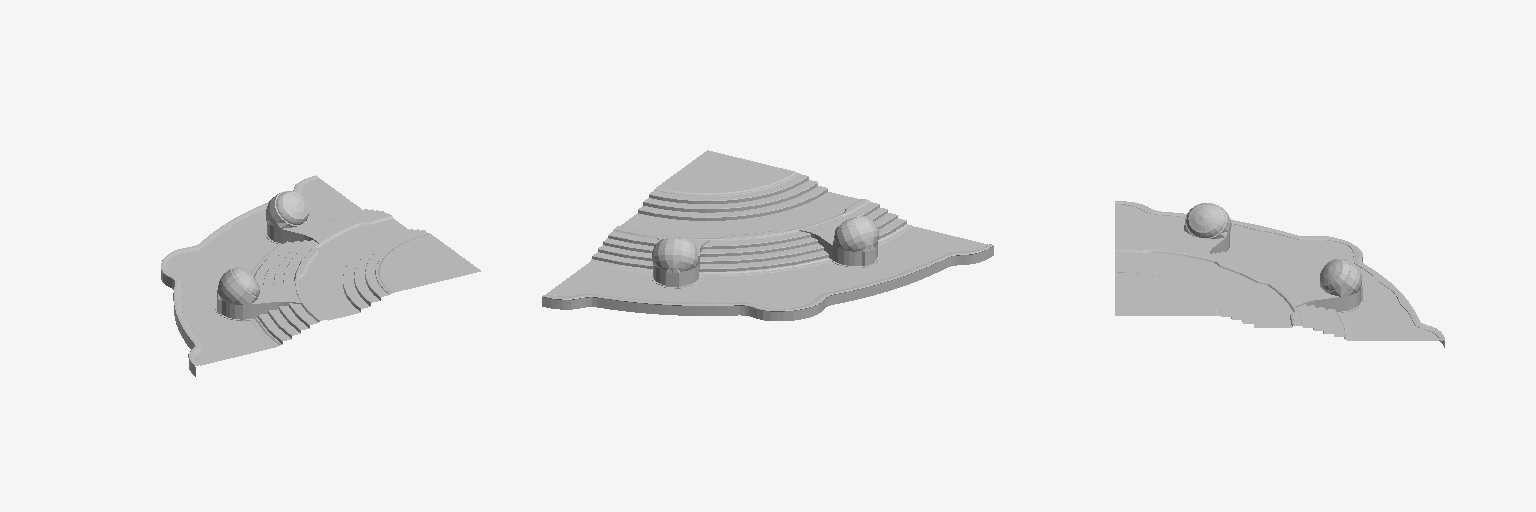
Rendered from Stairs Quarter.obj.
3 views of the same model, side by side, from view 1: azimuth 30°, elevation 25°; view 2: azimuth 150°, elevation 25°; view 3: azimuth 270°, elevation 25° (orthographic).
Parts seen in each view (by area): view 1: SM_Cave_Floor_Stairs_Quarter; view 2: SM_Cave_Floor_Stairs_Quarter; view 3: SM_Cave_Floor_Stairs_Quarter.
Boxes of the visible parts, box(x1,y1,x2,y2) form: SM_Cave_Floor_Stairs_Quarter: box(161, 175, 480, 376); SM_Cave_Floor_Stairs_Quarter: box(542, 150, 993, 320); SM_Cave_Floor_Stairs_Quarter: box(1115, 201, 1444, 347).
Bounding box in the file's own units: 2558 × 431 × 2558.